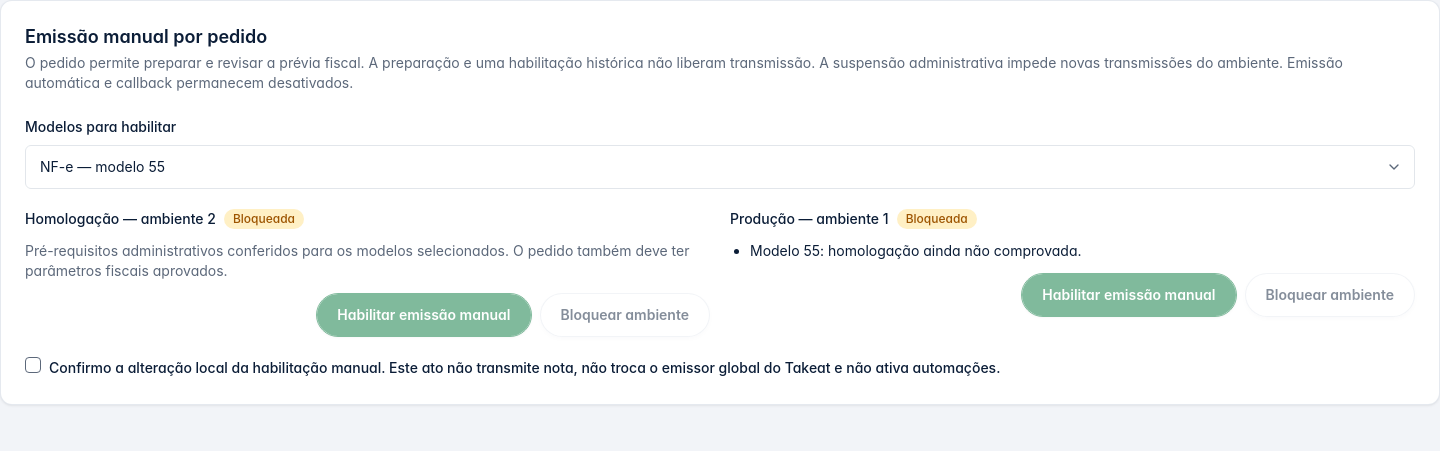
Test: exige confirmação explícita e salva só modelo e ambiente selecionados, sem segredo
This screenshot has width=1440, height=451.
Check: the button "Habilitar emissão manual" below "os modelos selecionados" is disabled, box x1=316 y1=293 x2=532 y2=337
Click the 1st checkbox at (33, 365), box x1=25 y1=357 x2=41 y2=373
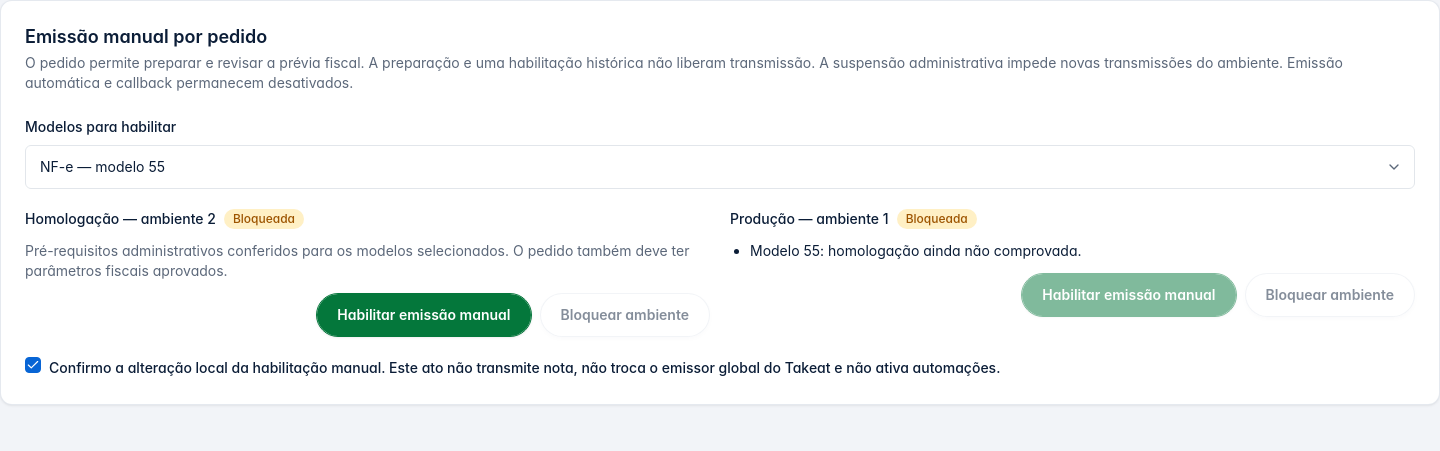
Click the button "Habilitar emissão manual" below "os modelos selecionados" at (424, 315), box x1=316 y1=293 x2=532 y2=337
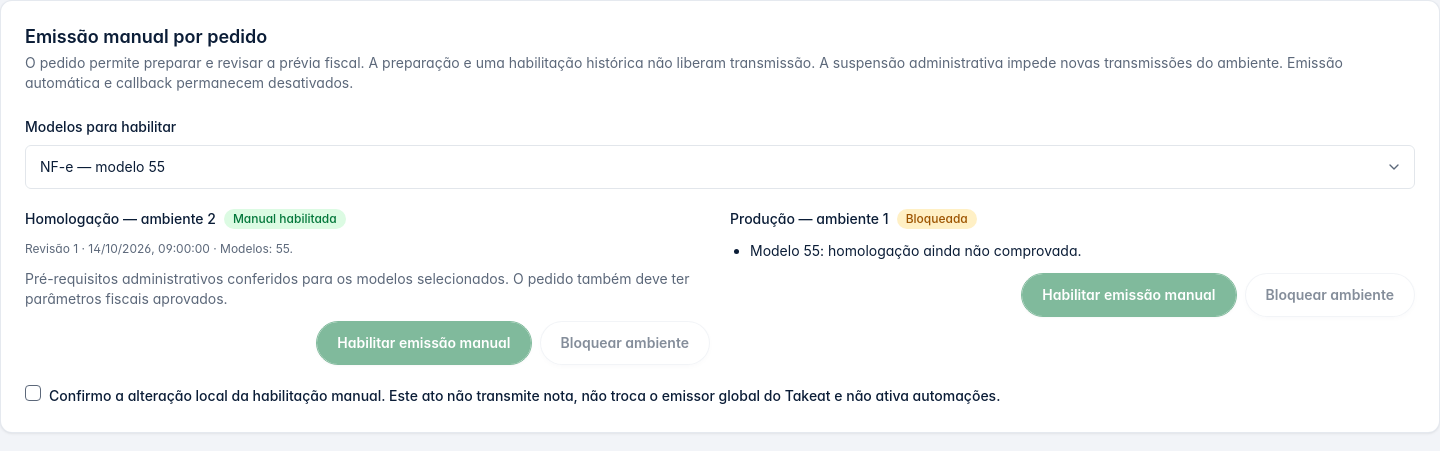
Check: the text "Manual habilitada" is shown, box x1=224 y1=209 x2=346 y2=229
